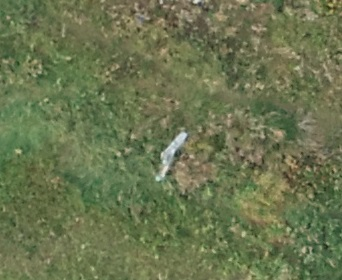opora: (154, 131, 188, 182)
